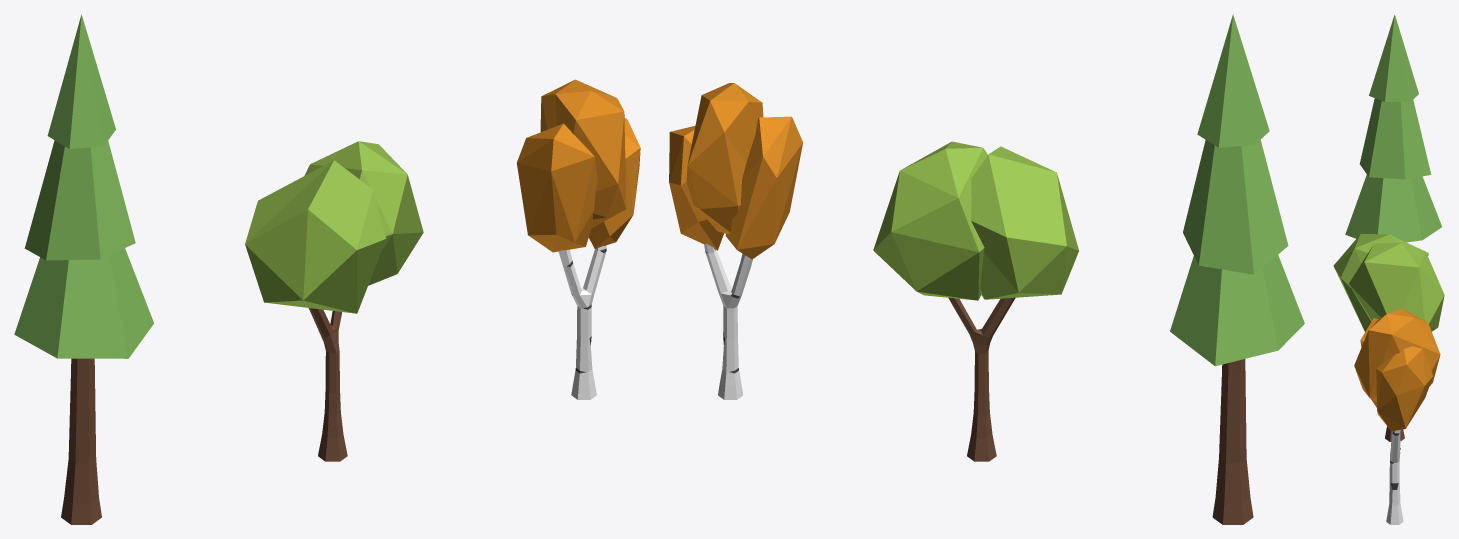
The model's file is Trees.glb.
3 renders of one model, left to right at view 1: azimuth 30°, elevation 25°; view 2: azimuth 150°, elevation 25°; view 3: azimuth 270°, elevation 25°, orthographic. The views are drawn at different scales.
Parts seen in each view (by area): view 1: Pine, Oak, Birch; view 2: Pine, Oak, Birch; view 3: Pine, Birch, Oak.
Part boxes in pixels (bbox=[...]): Pine: bbox=[14, 14, 154, 524]; Oak: bbox=[245, 141, 423, 461]; Birch: bbox=[516, 79, 640, 399]; Pine: bbox=[1170, 14, 1304, 524]; Oak: bbox=[873, 141, 1078, 461]; Birch: bbox=[669, 83, 802, 399]; Pine: bbox=[1345, 14, 1441, 242]; Birch: bbox=[1354, 308, 1440, 524]; Oak: bbox=[1333, 234, 1444, 441].
Bounding box in the file's own units: 9.79 × 7.67 × 2.26.
